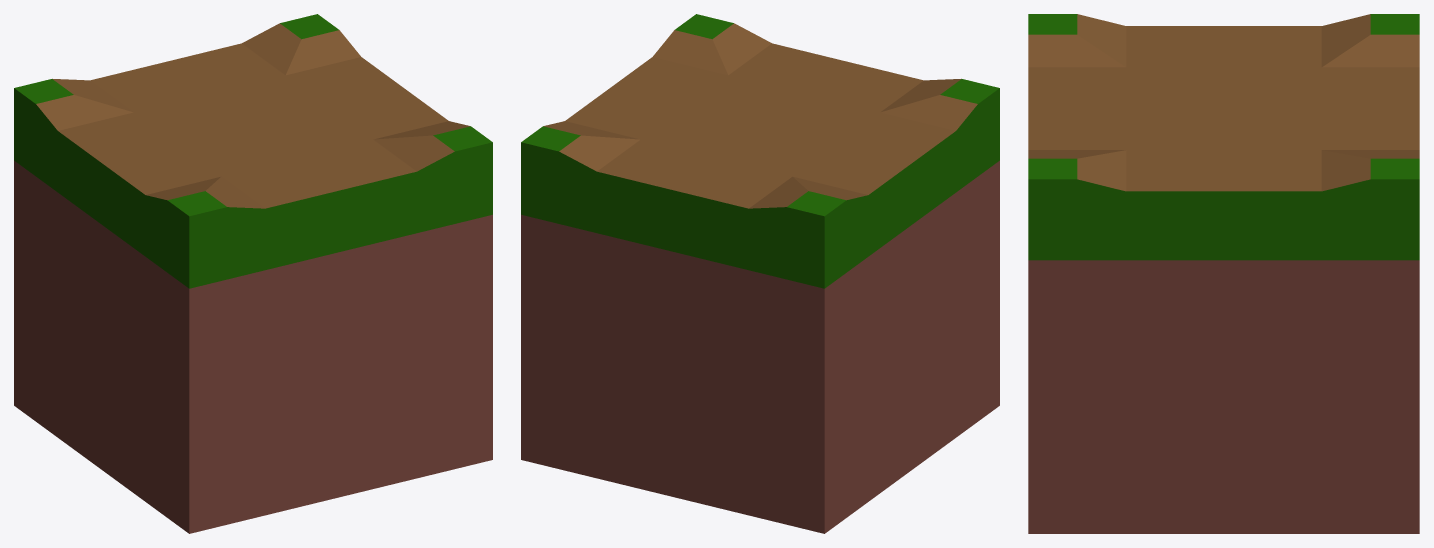
Rendered from Plain_Grass_Path_4_Way_Junction_.glb.
3 renders of one model, left to right at view 1: azimuth 30°, elevation 25°; view 2: azimuth 150°, elevation 25°; view 3: azimuth 270°, elevation 25°, orthographic. The views are drawn at different scales.
Visible parts, largest first — view 1: Plain Grass Path 4 Way Junction; view 2: Plain Grass Path 4 Way Junction; view 3: Plain Grass Path 4 Way Junction.
Part boxes in pixels (x1,y1,x2,y2): Plain Grass Path 4 Way Junction: [14, 14, 492, 533]; Plain Grass Path 4 Way Junction: [521, 14, 999, 533]; Plain Grass Path 4 Way Junction: [1028, 14, 1419, 533].
Size of the model in its own units: 2 by 2 by 2.
1 material, 1 textured.
